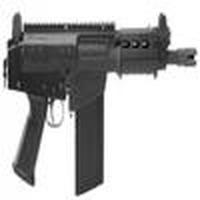gun: (3, 22, 196, 179)
